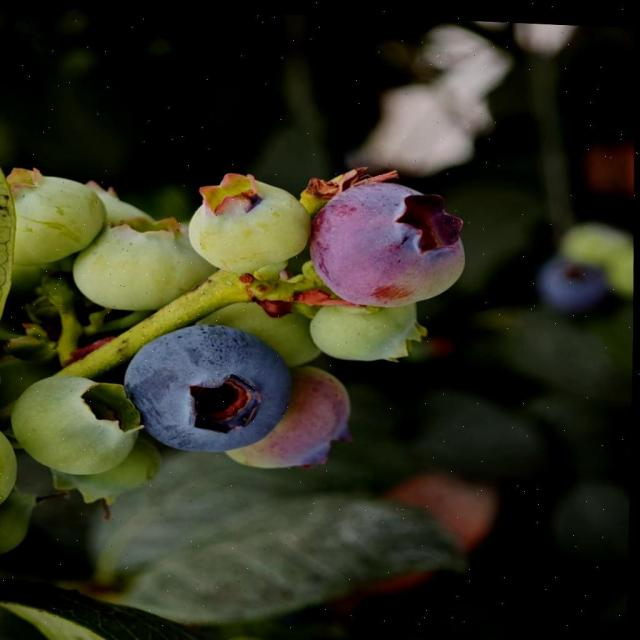RipeBlueBerry: (126, 318, 291, 453)
Semi-RipeBlueBerry: (313, 171, 468, 306)
UnripeBlueBerry: (188, 168, 313, 272), (16, 374, 143, 476), (72, 208, 196, 311)
